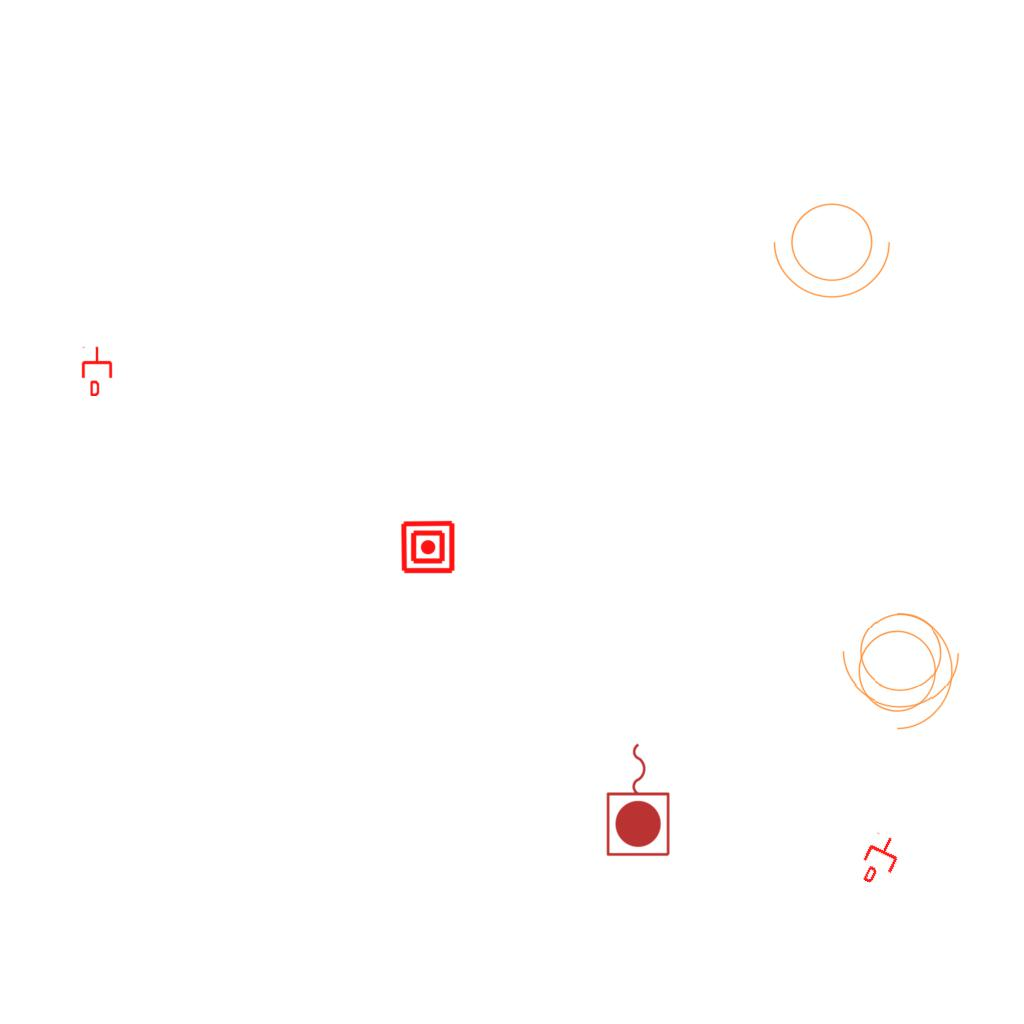Datenanschluss_einfach: (853, 830, 907, 890), (80, 346, 114, 396)
NAM-Nichtautomatischer_Melder: (400, 519, 456, 575)
Scheinwerfer_fuer_Alarmbeleuchtung: (837, 599, 971, 715), (769, 191, 901, 303), (846, 602, 958, 734)
Zugtaster: (603, 738, 675, 860)
